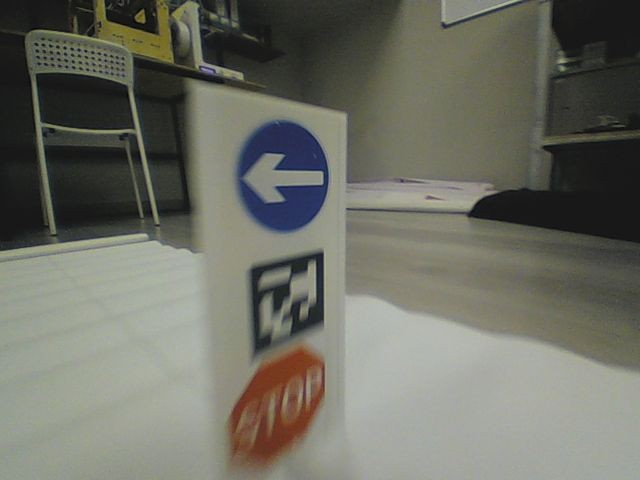Stop: (230, 348, 326, 467)
